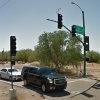Traffic light: (49, 8, 95, 57)
